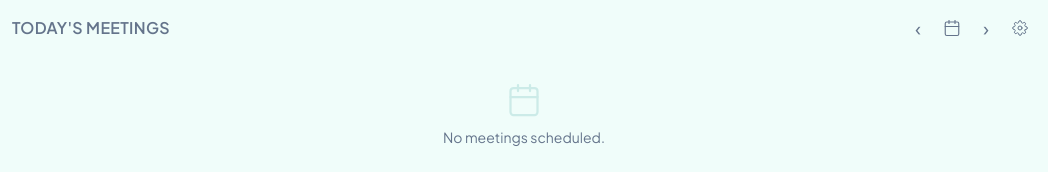
it: MeetingsSection — date navigation › a day more than one away shows the formatted weekday/date heading
Expected: the message "No meetings scheduled." is shown, x1=443 y1=82 x2=605 y2=146
Step 1. Click the button with test id "meetings-next-day" → (986, 28), box x1=970 y1=12 x2=1002 y2=44
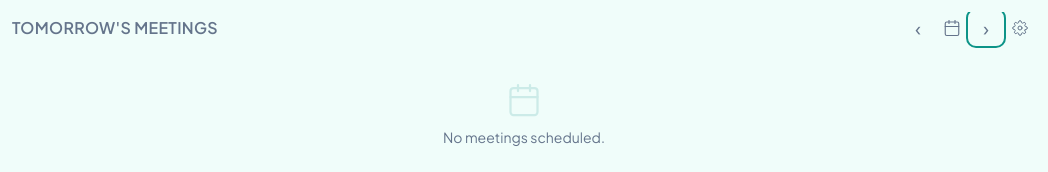
Step 2. Click the button with test id "meetings-next-day" → (986, 28), box x1=970 y1=12 x2=1002 y2=44
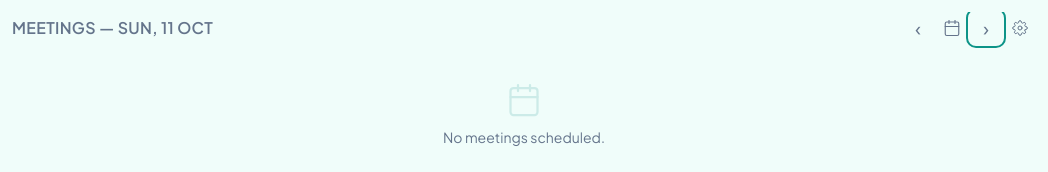
Now the heading with test id "meetings-heading" shows "Meetings —", box x1=12 y1=17 x2=213 y2=38
